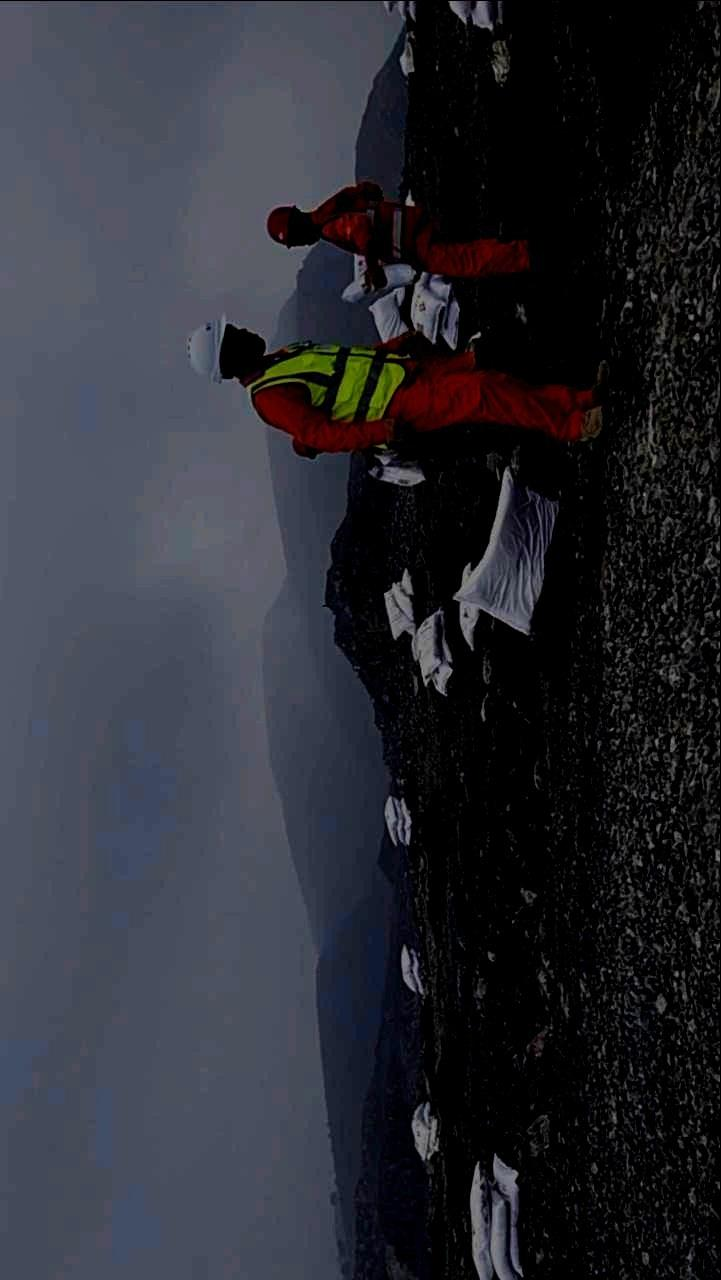helmet: (183, 311, 267, 384), (265, 203, 321, 250)
